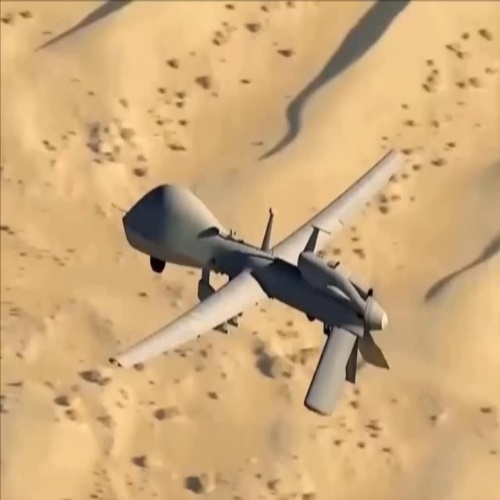uav: (107, 146, 407, 420)
